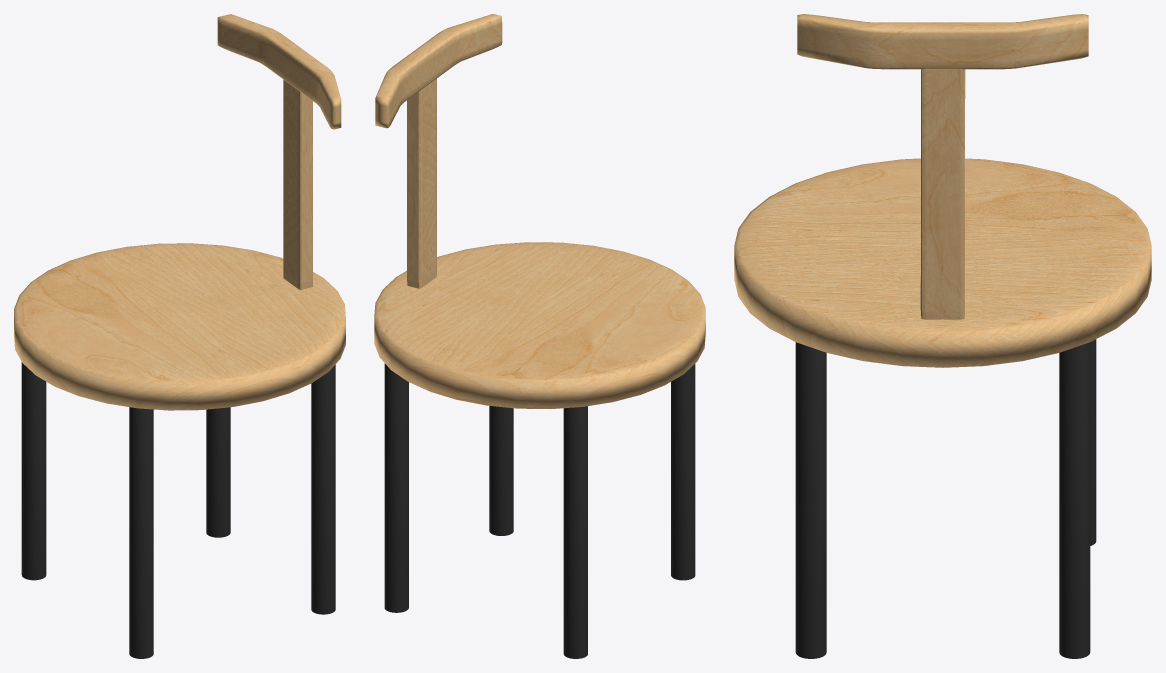
The model's file is cafe_chair.fbx.
3 views of the same model, side by side, from view 1: azimuth 30°, elevation 25°; view 2: azimuth 150°, elevation 25°; view 3: azimuth 270°, elevation 25° (orthographic). The views are drawn at different scales.
Visible parts, largest first — view 1: Stool, Chair leg 1, Chair leg 3, Back Rest Support, Chair leg 2, Back Rest, Chair leg 4; view 2: Stool, Chair leg 2, Chair leg 4, Back Rest Support, Back Rest, Chair leg 1, Chair leg 3; view 3: Stool, Back Rest, Back Rest Support, Chair leg 3, Chair leg 4, Chair leg 2.
Part boxes in pixels (left/top/right/bottom): Stool: left=14, top=243, right=345, bottom=410; Chair leg 1: left=129, top=407, right=153, bottom=658; Chair leg 3: left=311, top=364, right=335, bottom=614; Back Rest Support: left=283, top=79, right=312, bottom=289; Chair leg 2: left=21, top=362, right=46, bottom=580; Back Rest: left=217, top=14, right=341, bottom=129; Chair leg 4: left=206, top=407, right=230, bottom=537; Stool: left=374, top=242, right=705, bottom=408; Chair leg 2: left=563, top=406, right=587, bottom=658; Chair leg 4: left=384, top=363, right=408, bottom=612; Back Rest Support: left=407, top=78, right=436, bottom=288; Back Rest: left=375, top=14, right=502, bottom=128; Chair leg 1: left=671, top=364, right=695, bottom=580; Chair leg 3: left=489, top=406, right=513, bottom=535; Stool: left=734, top=158, right=1151, bottom=367; Back Rest: left=797, top=14, right=1088, bottom=69; Back Rest Support: left=920, top=68, right=965, bottom=319; Chair leg 3: left=795, top=342, right=826, bottom=658; Chair leg 4: left=1059, top=342, right=1090, bottom=658; Chair leg 2: left=1090, top=339, right=1096, bottom=545.
Size of the model in its own units: 95 by 162 by 95.
